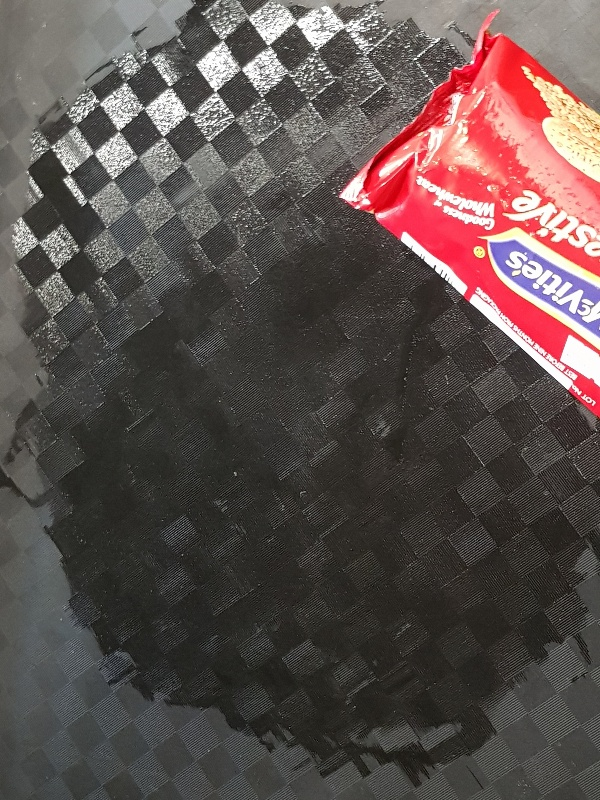Mcvitie's Digestive: (336, 10, 600, 421)
